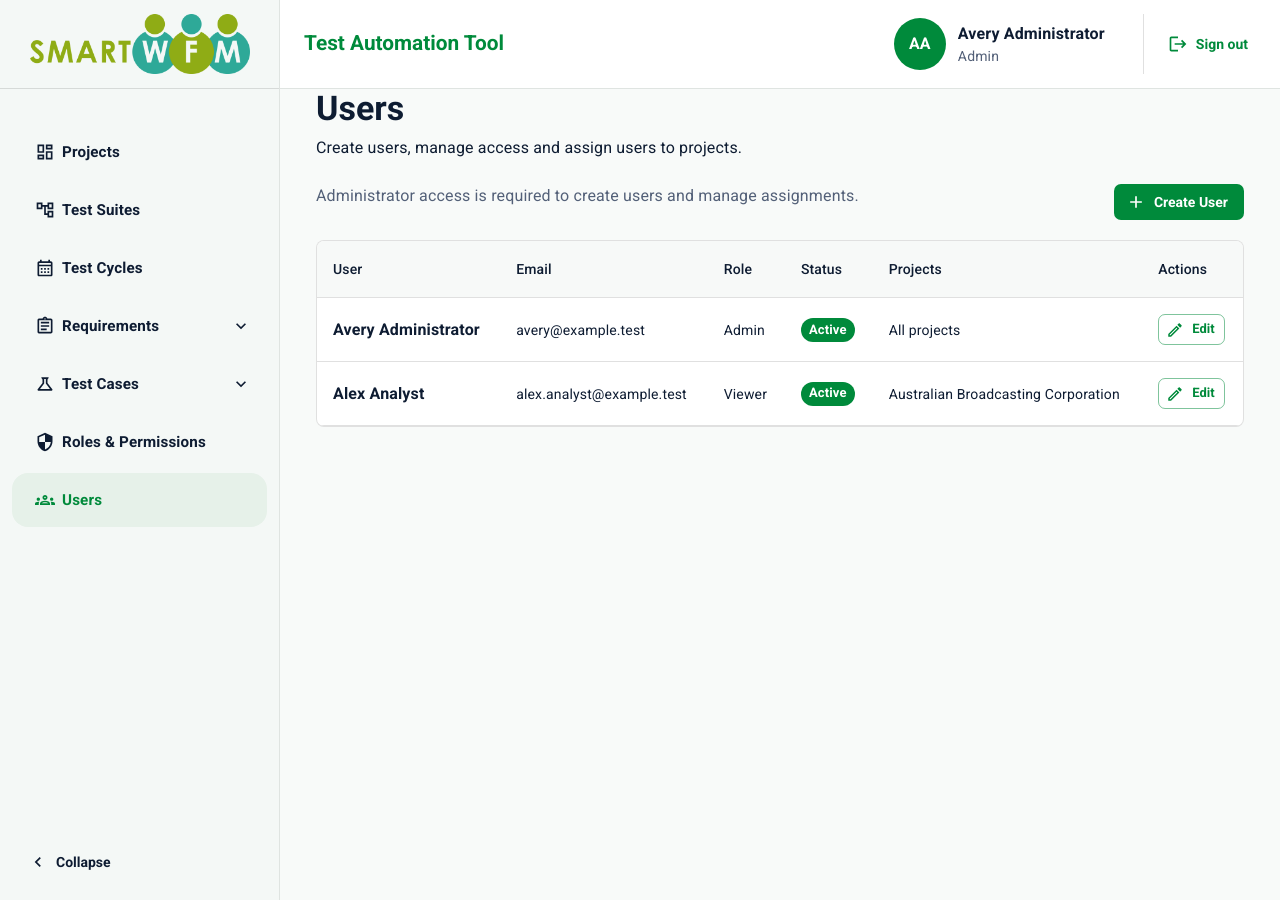
Test: App shell › opens the Administrator-only Create User drawer with access controls
Expected: the heading "Users" is shown, [316,88,404,128]
Click the button "Create User".
click(1179, 202)  # box [1114,184,1244,220]
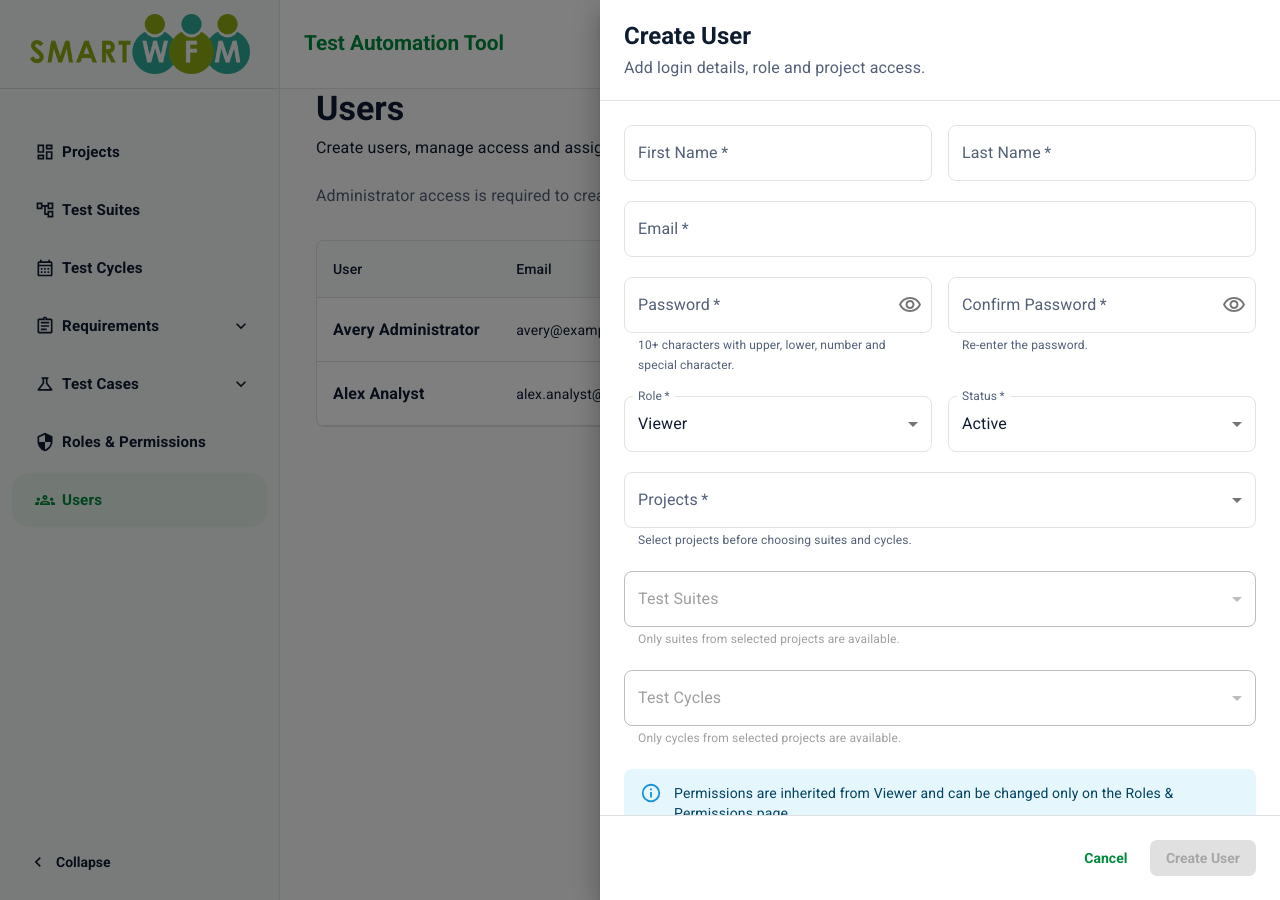
Result: the heading "Create User" is shown at [624,22,751,50]
Result: the field labelled "First Name *" is shown at [624,125,932,181]
Result: the field labelled "Last Name *" is shown at [948,125,1256,181]
